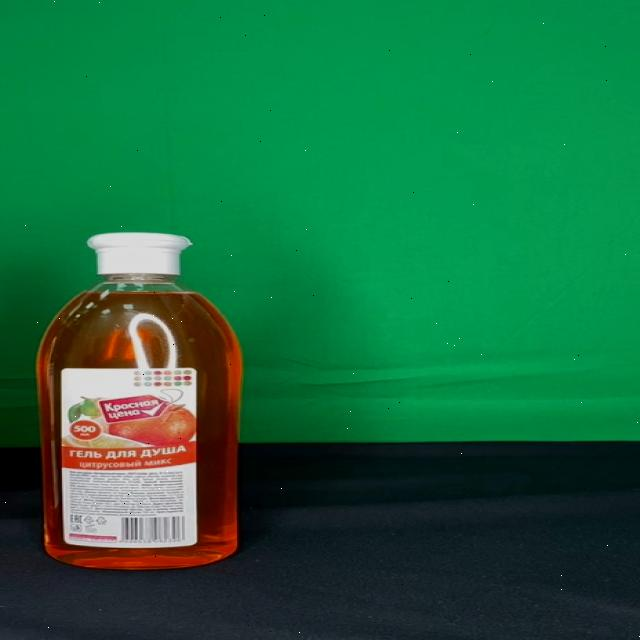Bottle: (35, 232, 244, 571)
Cap: (85, 233, 188, 276)
